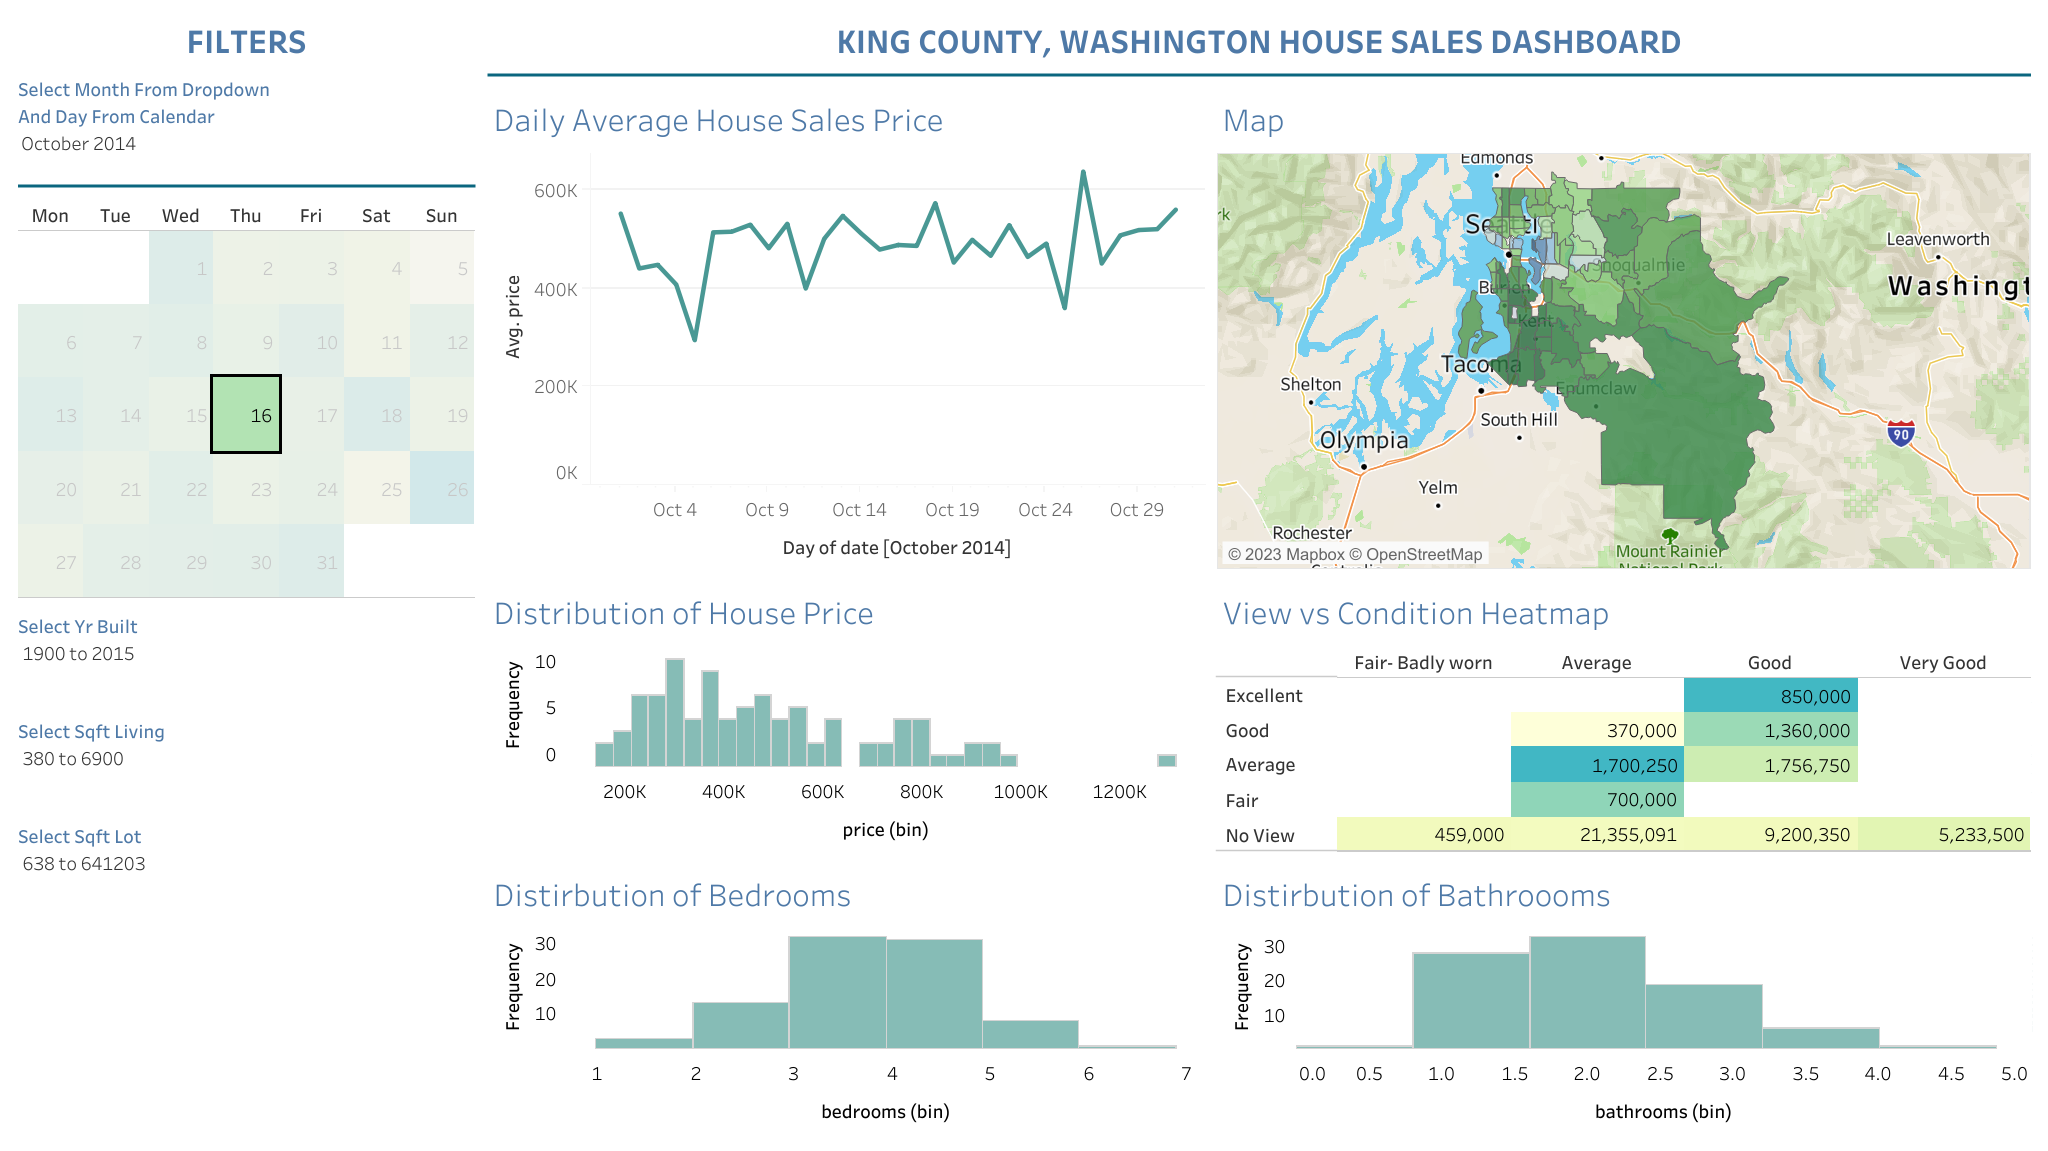

What the dashboard file says about the page in this screenshot:
{"tool":"tableau","page":{"name":"Dashboard 1","canvas":[1000,1000],"units":"permille","ordinal":0},"visuals":[{"type":"text","box":[5,9.1,229.4,59.2]},{"type":"text","box":[234.4,9.1,760.6,59.2]},{"type":"filter","title":"Calendar","param":"[federated.0k4s1fb0lp4c2f10ixpwn1mboqmf].[my:date:ok]","box":[5,68.3,229.4,108.2]},{"type":"blank","box":[234.4,68.3,760.6,11.4]},{"type":"worksheet","title":"Sale Price","mark":"Automatic","rows":["price"],"cols":["date"],"box":[234.4,79.7,356.6,420.3]},{"type":"worksheet","title":"Map","mark":"Automatic","box":[591,79.7,404,420.3]},{"type":"blank","box":[5,176.5,229.4,11.4]},{"type":"worksheet","title":"Calendar","mark":"Square","rows":["date"],"cols":["date"],"box":[5,187.9,229.4,312.1]},{"type":"filter","title":"Calendar","param":"[federated.0k4s1fb0lp4c2f10ixpwn1mboqmf].[none:yr_built:qk]","box":[5,500,229.4,67.2]},{"type":"worksheet","title":"House Price","mark":"Automatic","rows":["price"],"cols":["price (bin)"],"box":[234.4,500,356.6,245.5]},{"type":"worksheet","title":"Heatmap","mark":"Square","rows":["view"],"cols":["condition"],"box":[591,500,404,245.5]},{"type":"filter","title":"Calendar","param":"[federated.0k4s1fb0lp4c2f10ixpwn1mboqmf].[none:sqft_living:qk]","box":[5,567.2,229.4,67.2]},{"type":"filter","title":"Calendar","param":"[federated.0k4s1fb0lp4c2f10ixpwn1mboqmf].[none:sqft_lot:qk]","box":[5,634.4,229.4,67.2]},{"type":"worksheet","title":"Bedrooms","mark":"Automatic","rows":["bedrooms"],"cols":["bedrooms (bin)"],"box":[234.4,745.5,356.6,245.4]},{"type":"worksheet","title":"Bathrooms","mark":"Automatic","rows":["bathrooms"],"cols":["bathrooms (bin)"],"box":[591,745.5,404,245.4]}]}

Visuals, with their boxes on the dashboard's canvas, which has no fixed pixel size, in thousandths of its width and height (x1, y1, x2, y2). These are canvas units, not pixel positions in the 2048x1151 screenshot, which may show the page scaled, cropped or inside an application window:
text: left=5, top=9, right=234, bottom=68
text: left=234, top=9, right=995, bottom=68
"Calendar" filter: left=5, top=68, right=234, bottom=176
blank: left=234, top=68, right=995, bottom=80
"Sale Price" worksheet: left=234, top=80, right=591, bottom=500
"Map" worksheet: left=591, top=80, right=995, bottom=500
blank: left=5, top=176, right=234, bottom=188
"Calendar" worksheet (Square marks): left=5, top=188, right=234, bottom=500
"Calendar" filter: left=5, top=500, right=234, bottom=567
"House Price" worksheet: left=234, top=500, right=591, bottom=746
"Heatmap" worksheet (Square marks): left=591, top=500, right=995, bottom=746
"Calendar" filter: left=5, top=567, right=234, bottom=634
"Calendar" filter: left=5, top=634, right=234, bottom=702
"Bedrooms" worksheet: left=234, top=746, right=591, bottom=991
"Bathrooms" worksheet: left=591, top=746, right=995, bottom=991
